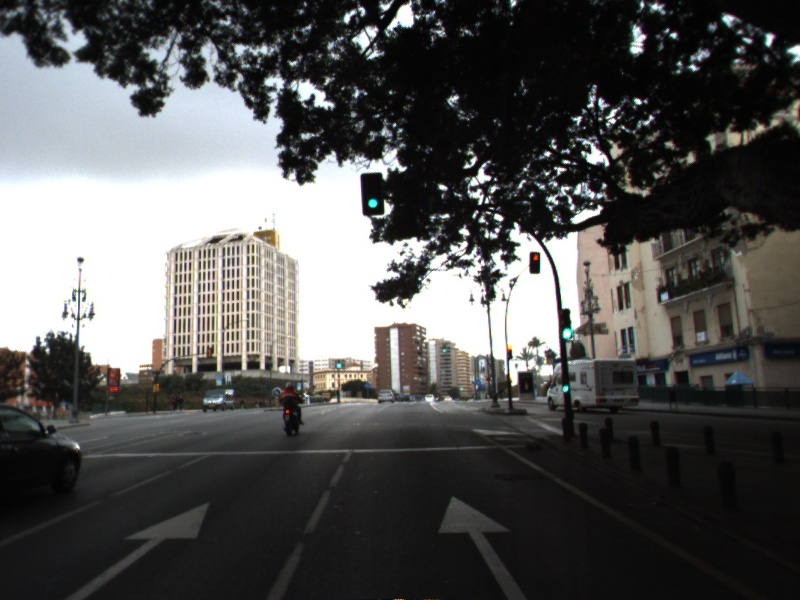STRAIGHT: (62, 498, 214, 600), (434, 491, 532, 600)
